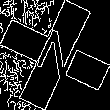N_SW: (26, 24, 84, 86)
